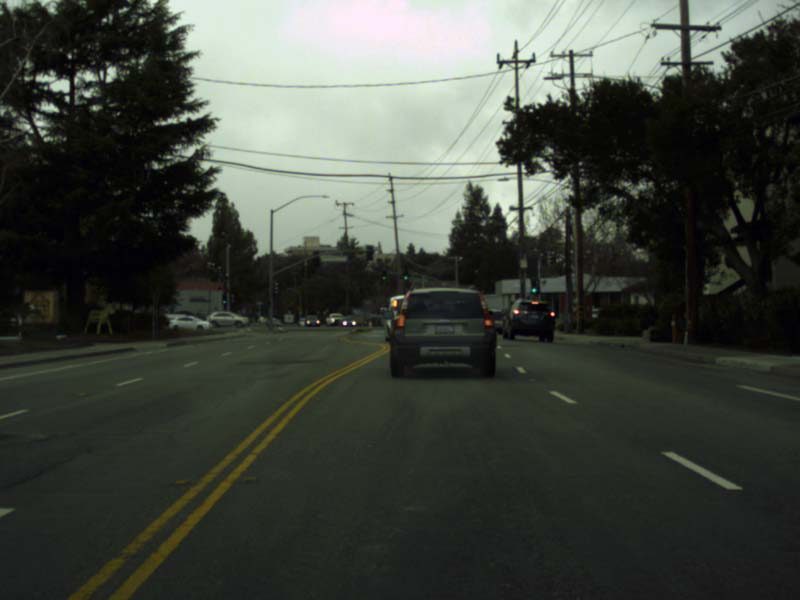Green: (530, 280, 536, 293), (403, 269, 408, 280), (221, 294, 226, 304), (382, 270, 386, 280), (457, 293, 460, 304)
